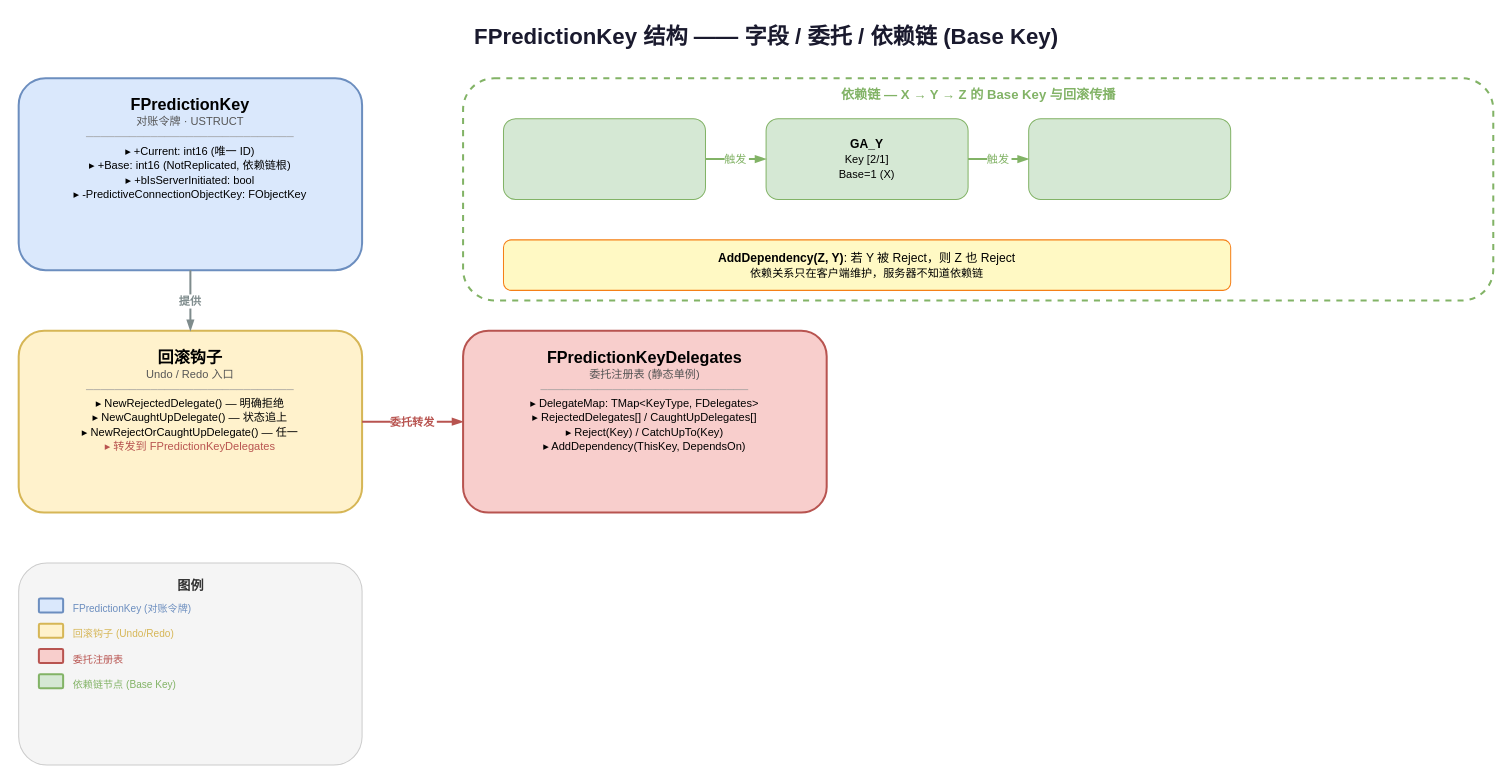
Some shapes in this 1511 by 783 pixel diagram are drawn without their labels. Here are the shapes that lost their labels. From the top down, the centre of each, then its label:
[603,158]: GA_X Key [1/0] Base=0
[1129,158]: GA_Z Key [3/1] Base=1 (X)
